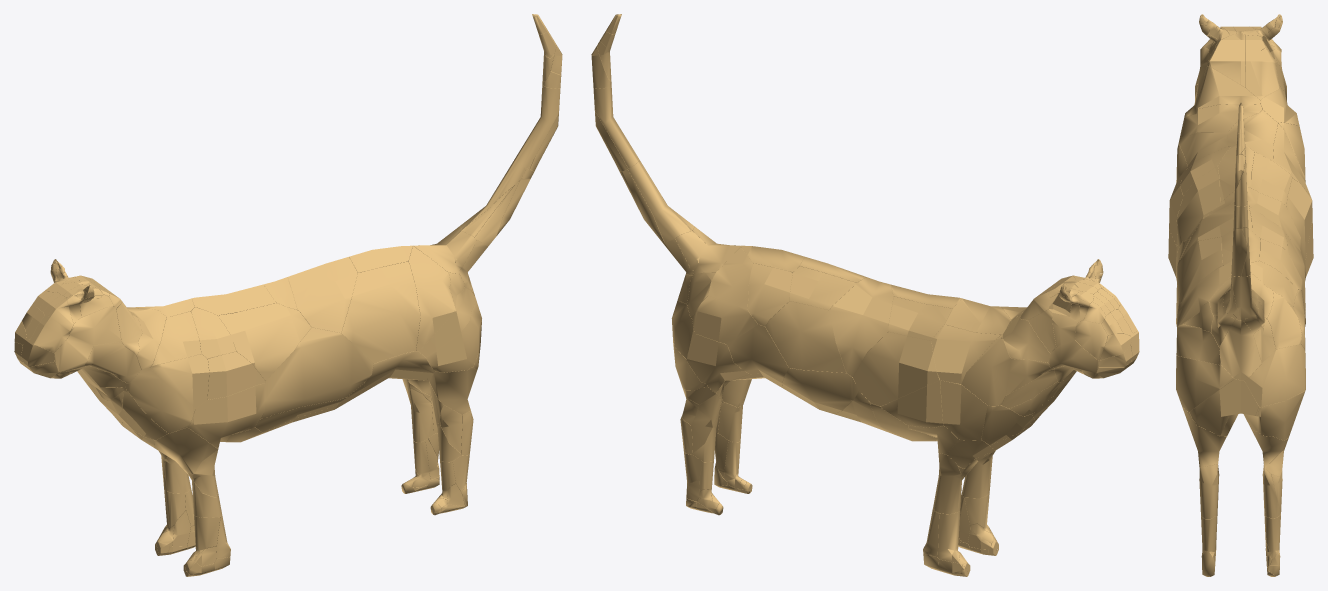
The model's file is crashed_cattie_BLAT_lgb_.glb.
The picture shows the model from 3 angles, left to right: view 1: azimuth 30°, elevation 25°; view 2: azimuth 150°, elevation 25°; view 3: azimuth 270°, elevation 25°; orthographic projection. The views are drawn at different scales.
Visible parts, largest first — view 1: Plane.001_Material.002_0.002_cell.146, Plane.001_Material.002_0.002_cell.119, Plane.001_Material.002_0.002_cell.036, Plane.001_Material.002_0.002_cell.111, Plane.001_Material.002_0.002_cell.138, Plane.001_Material.002_0.002_cell.021, Plane.001_Material.002_0.002_cell.131, Plane.001_Material.002_0.002_cell.022, Plane.001_Material.002_0.002_cell.057, Plane.001_Material.002_0.002_cell.052, Plane.001_Material.002_0.002_cell.178, Plane.001_Material.002_0.002_cell.061 (+24 smaller); view 2: Plane.001_Material.002_0.002_cell.015, Plane.001_Material.002_0.002_cell.115, Plane.001_Material.002_0.002_cell.114, Plane.001_Material.002_0.002_cell.222, Plane.001_Material.002_0.002_cell.101, Plane.001_Material.002_0.002_cell.135, Plane.001_Material.002_0.002_cell.194, Plane.001_Material.002_0.002_cell.123, Plane.001_Material.002_0.002_cell.171, Plane.001_Material.002_0.002_cell.077, Plane.001_Material.002_0.002_cell.159, Plane.001_Material.002_0.002_cell.043 (+27 smaller); view 3: Plane.001_Material.002_0.002_cell.116, Plane.001_Material.002_0.002_cell.088, Plane.001_Material.002_0.002_cell.052, Plane.001_Material.002_0.002_cell.036, Plane.001_Material.002_0.002_cell.119, Plane.001_Material.002_0.002_cell.186, Plane.001_Material.002_0.002_cell.008, Plane.001_Material.002_0.002_cell.068, Plane.001_Material.002_0.002_cell.115, Plane.001_Material.002_0.002_cell.103, Plane.001_Material.002_0.002_cell.043, Plane.001_Material.002_0.002_cell.027 (+51 smaller).
Part boxes in pixels (box(x1,y1,x2,y2)): Plane.001_Material.002_0.002_cell.146: box(261, 327, 373, 418); Plane.001_Material.002_0.002_cell.119: box(341, 261, 420, 363); Plane.001_Material.002_0.002_cell.036: box(218, 303, 311, 380); Plane.001_Material.002_0.002_cell.111: box(287, 257, 357, 332); Plane.001_Material.002_0.002_cell.138: box(188, 383, 264, 448); Plane.001_Material.002_0.002_cell.021: box(408, 246, 455, 351); Plane.001_Material.002_0.002_cell.131: box(125, 368, 195, 433); Plane.001_Material.002_0.002_cell.022: box(150, 354, 209, 408); Plane.001_Material.002_0.002_cell.057: box(207, 351, 265, 399); Plane.001_Material.002_0.002_cell.052: box(426, 302, 481, 372); Plane.001_Material.002_0.002_cell.178: box(151, 311, 201, 366); Plane.001_Material.002_0.002_cell.061: box(154, 427, 217, 474); Plane.001_Material.002_0.002_cell.015: box(853, 332, 939, 406); Plane.001_Material.002_0.002_cell.115: box(829, 277, 893, 377); Plane.001_Material.002_0.002_cell.114: box(765, 301, 846, 372); Plane.001_Material.002_0.002_cell.222: box(931, 324, 1001, 383); Plane.001_Material.002_0.002_cell.101: box(782, 368, 859, 413); Plane.001_Material.002_0.002_cell.135: box(727, 324, 788, 385); Plane.001_Material.002_0.002_cell.194: box(961, 335, 1011, 405); Plane.001_Material.002_0.002_cell.123: box(940, 380, 987, 440); Plane.001_Material.002_0.002_cell.171: box(747, 263, 792, 326); Plane.001_Material.002_0.002_cell.077: box(692, 296, 757, 344); Plane.001_Material.002_0.002_cell.159: box(686, 334, 749, 393); Plane.001_Material.002_0.002_cell.043: box(888, 296, 952, 340); Plane.001_Material.002_0.002_cell.116: box(1244, 344, 1305, 407); Plane.001_Material.002_0.002_cell.088: box(1189, 379, 1258, 435); Plane.001_Material.002_0.002_cell.052: box(1176, 355, 1234, 412); Plane.001_Material.002_0.002_cell.036: box(1176, 166, 1220, 249); Plane.001_Material.002_0.002_cell.119: box(1177, 236, 1222, 310); Plane.001_Material.002_0.002_cell.186: box(1219, 319, 1261, 380); Plane.001_Material.002_0.002_cell.008: box(1184, 66, 1260, 118); Plane.001_Material.002_0.002_cell.068: box(1180, 104, 1262, 137); Plane.001_Material.002_0.002_cell.115: box(1206, 187, 1300, 251); Plane.001_Material.002_0.002_cell.103: box(1227, 110, 1277, 161); Plane.001_Material.002_0.002_cell.043: box(1251, 152, 1292, 206); Plane.001_Material.002_0.002_cell.027: box(1258, 391, 1304, 440).
Bounding box in the file's own units: 8.36 × 6.87 × 1.73.
